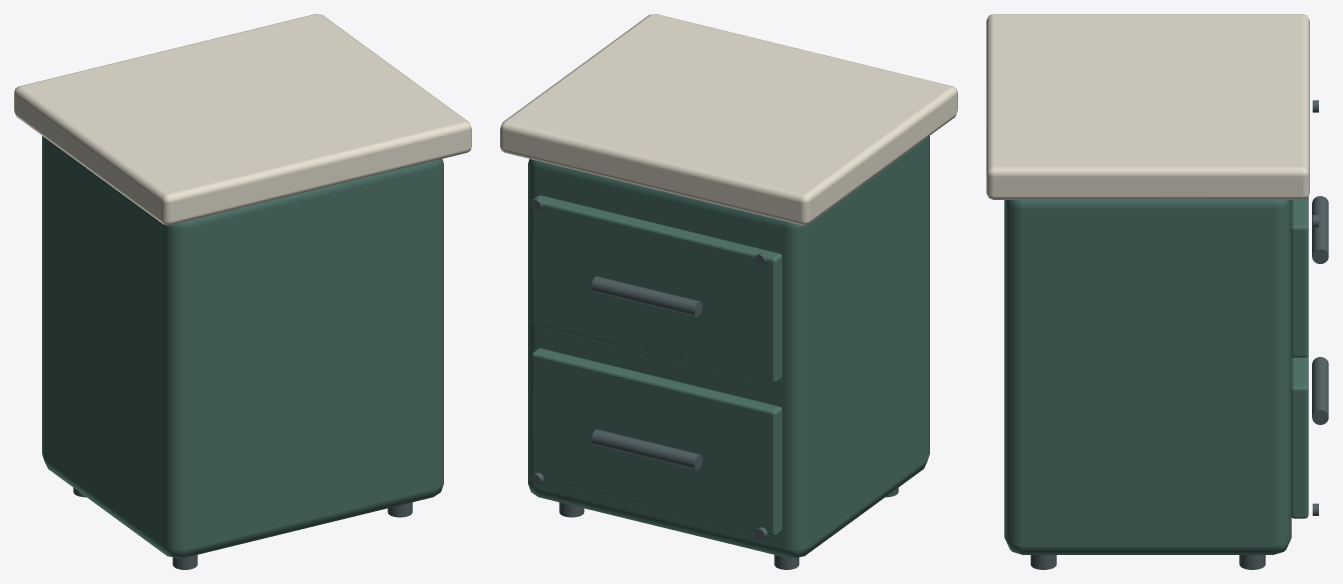
File: BedsideTable.obj
3 views of the same model, side by side, from view 1: azimuth 30°, elevation 25°; view 2: azimuth 150°, elevation 25°; view 3: azimuth 270°, elevation 25° (orthographic). The views are drawn at different scales.
Visible parts, largest first — view 1: BedsideTable; view 2: BedsideTable; view 3: BedsideTable.
Boxes of the visible parts, x1,y1,x2,y2 form: BedsideTable: (14, 14, 471, 569); BedsideTable: (500, 14, 957, 569); BedsideTable: (986, 14, 1328, 569).
Size of the model in its own units: 0.72 by 0.885 by 0.656.
